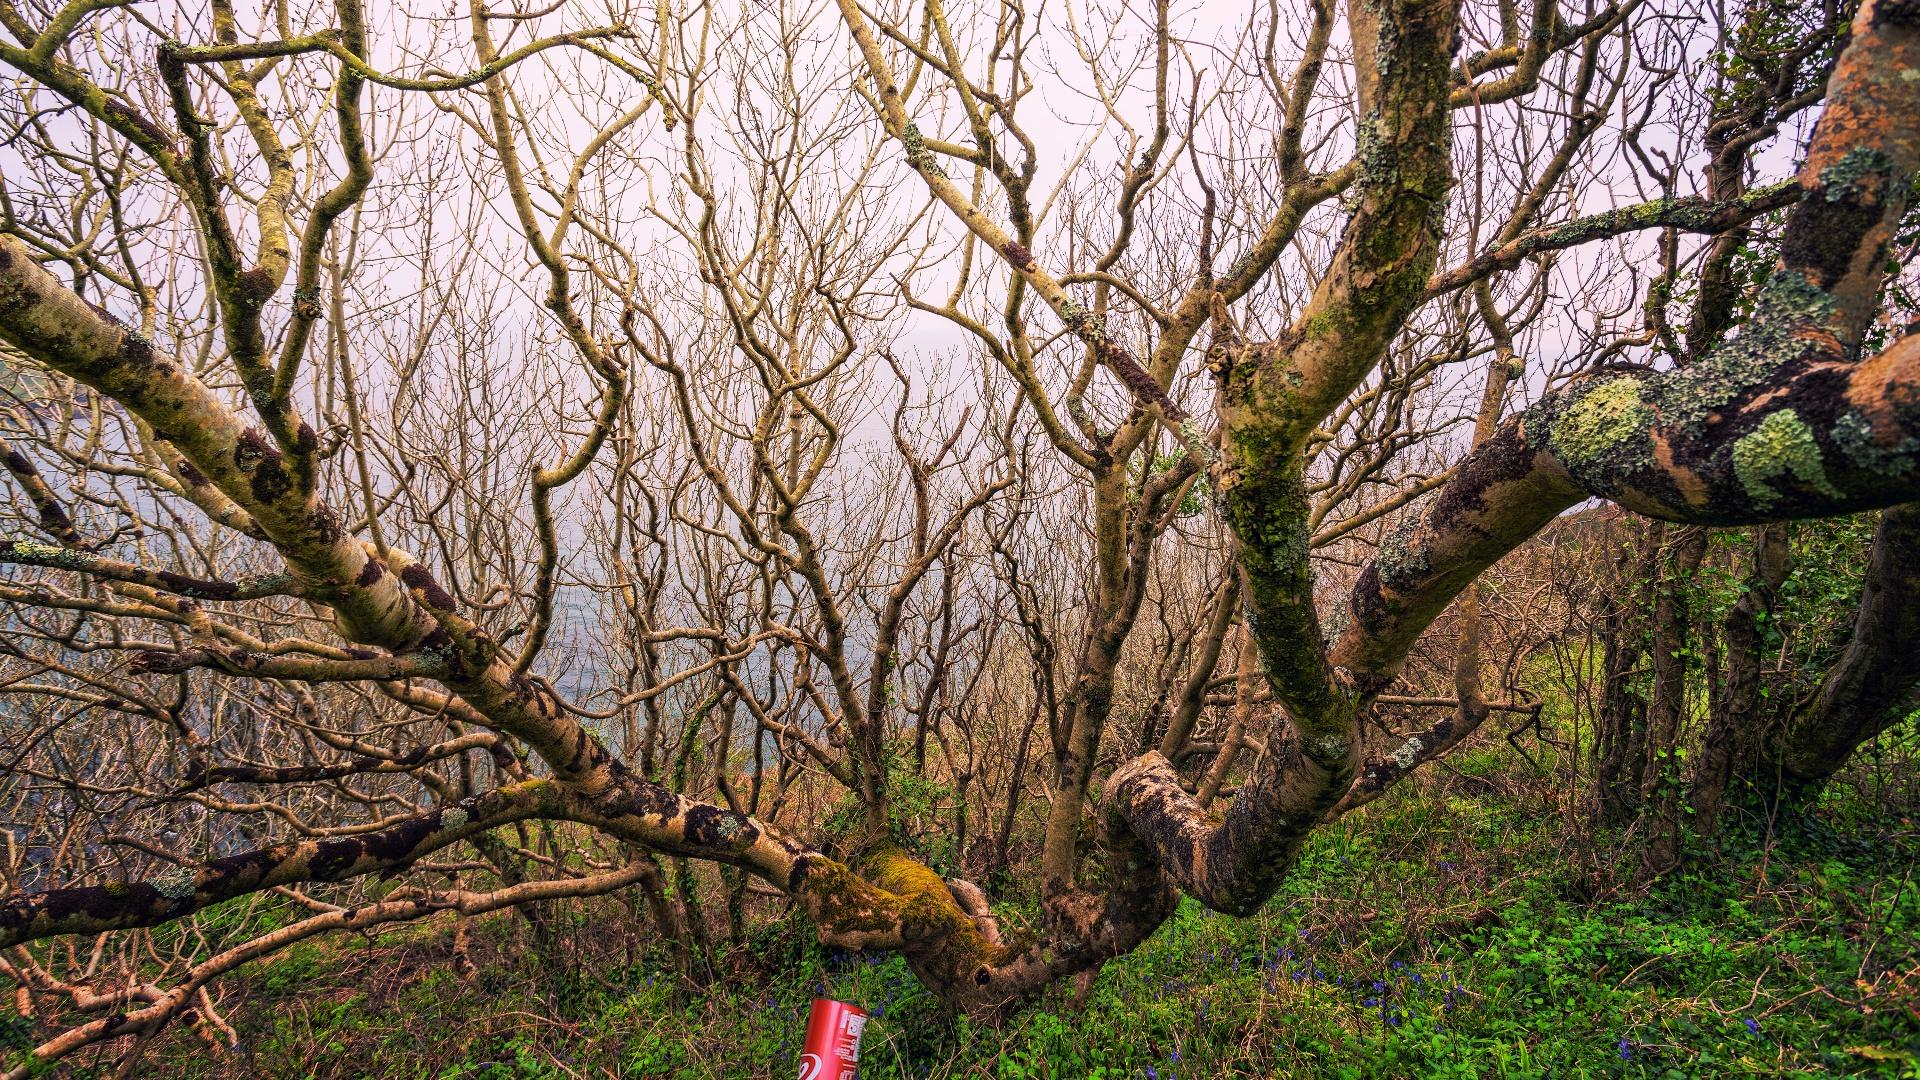metal-cans: (781, 990, 874, 1080)
